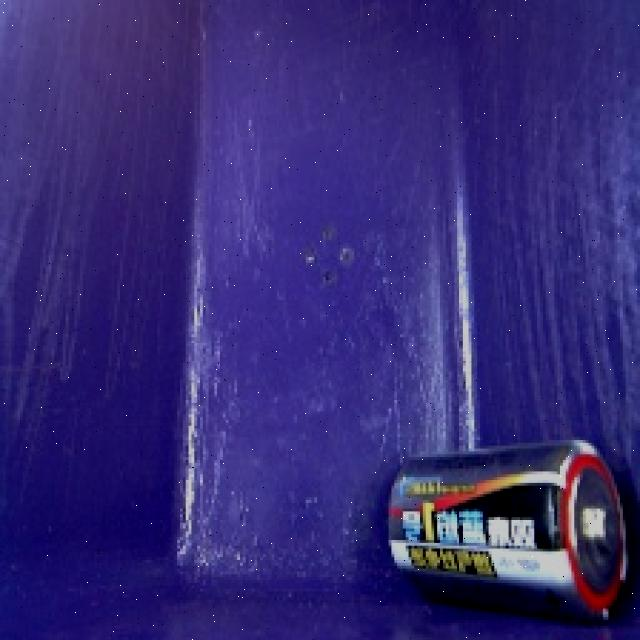battery: (376, 429, 640, 629)
